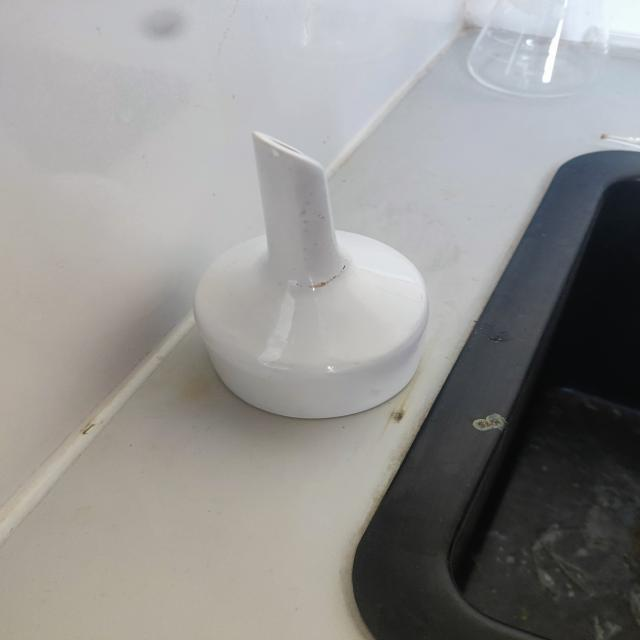Buchner_Funnel: (160, 109, 468, 459)
